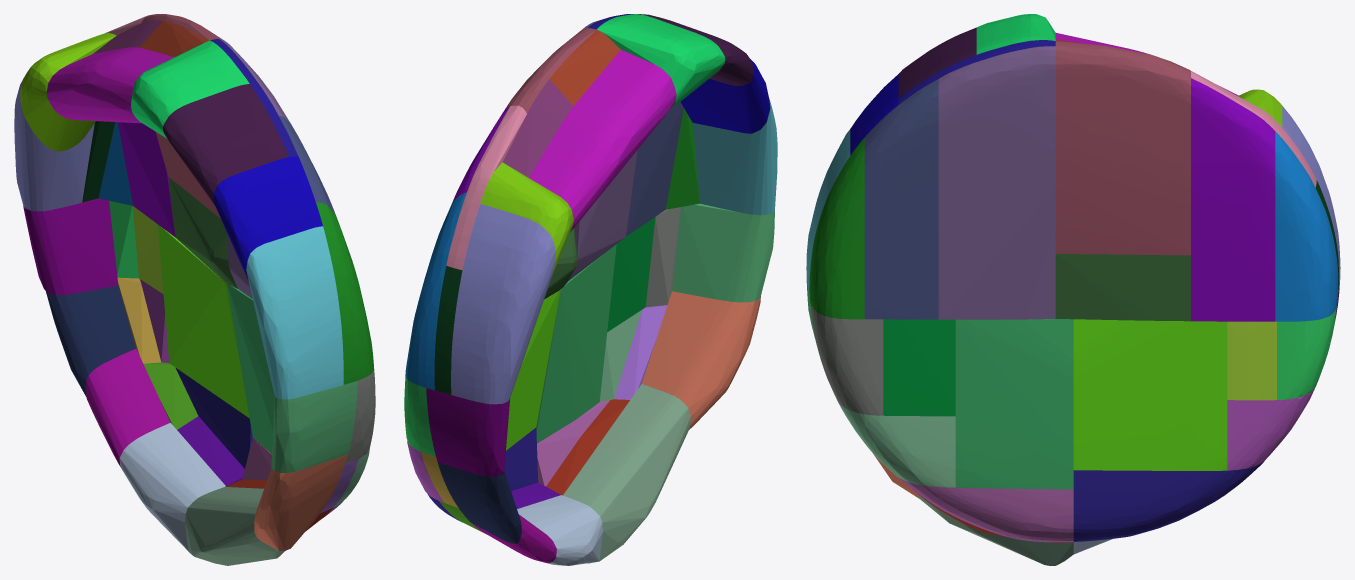
The model's file is top_cd.obj.
3 renders of one model, left to right at view 1: azimuth 30°, elevation 25°; view 2: azimuth 150°, elevation 25°; view 3: azimuth 270°, elevation 25°, orthographic. The views are drawn at different scales.
Visible parts, largest first — view 1: geometry_2, geometry_17, geometry_26, geometry_5, geometry_11, geometry_6, geometry_22, geometry_3, geometry_21, geometry_23, geometry_14, geometry_0 (+25 smaller); view 2: geometry_12, geometry_22, geometry_0, geometry_9, geometry_10, geometry_3, geometry_2, geometry_11, geometry_23, geometry_29, geometry_16, geometry_6 (+26 smaller); view 3: geometry_1, geometry_13, geometry_17, geometry_10, geometry_32, geometry_16, geometry_18, geometry_19, geometry_29, geometry_8, geometry_33, geometry_7 (+14 smaller).
Boxes of the visible parts, <box> form: geometry_2: <box>246,226,343,399</box>; geometry_17: <box>157,224,249,418</box>; geometry_26: <box>163,84,288,205</box>; geometry_5: <box>213,156,322,280</box>; geometry_11: <box>23,198,118,294</box>; geometry_6: <box>119,423,225,551</box>; geometry_22: <box>46,47,174,123</box>; geometry_3: <box>271,381,357,472</box>; geometry_21: <box>46,285,136,396</box>; geometry_23: <box>131,40,249,138</box>; geometry_14: <box>85,349,170,466</box>; geometry_0: <box>185,487,284,565</box>; geometry_12: <box>451,204,555,404</box>; geometry_22: <box>529,50,676,232</box>; geometry_0: <box>563,384,690,563</box>; geometry_9: <box>642,291,760,429</box>; geometry_10: <box>536,244,616,443</box>; geometry_3: <box>672,203,774,302</box>; geometry_2: <box>692,99,777,215</box>; geometry_11: <box>426,388,509,476</box>; geometry_23: <box>597,14,725,109</box>; geometry_29: <box>405,192,466,390</box>; geometry_16: <box>626,102,683,236</box>; geometry_6: <box>517,495,602,565</box>; geometry_1: <box>938,46,1055,319</box>; geometry_13: <box>1055,41,1190,255</box>; geometry_17: <box>1073,319,1227,470</box>; geometry_10: <box>955,319,1073,489</box>; geometry_32: <box>1191,78,1275,321</box>; geometry_16: <box>864,79,938,319</box>; geometry_18: <box>1073,461,1264,541</box>; geometry_19: <box>1055,253,1190,321</box>; geometry_29: <box>1275,131,1338,321</box>; geometry_8: <box>809,138,864,319</box>; geometry_33: <box>883,319,955,416</box>; geometry_7: <box>897,476,1073,542</box>.
Bounding box in the file's own units: 17.82 × 53.23 × 49.62.
